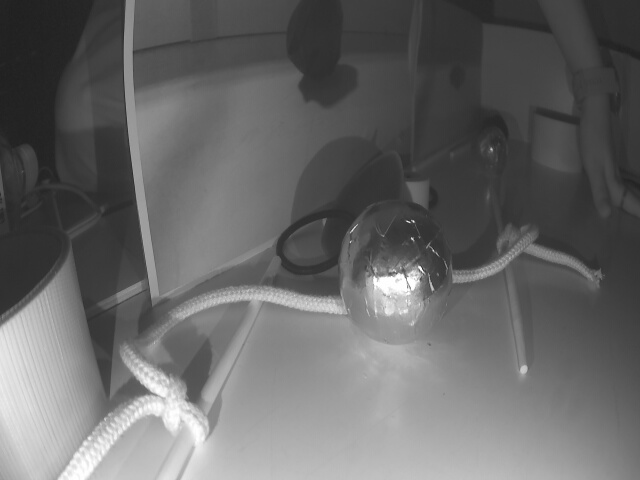Live: (340, 197, 445, 340), (475, 125, 506, 172)
